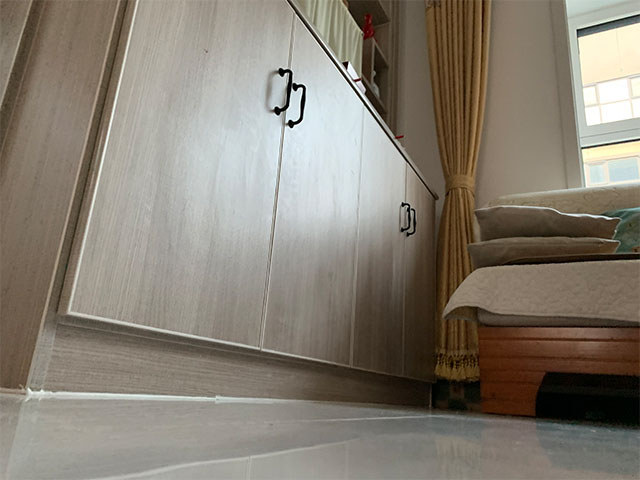cabinet: (1, 1, 438, 405)
curtain: (423, 1, 494, 383)
sofa: (440, 180, 640, 417)
